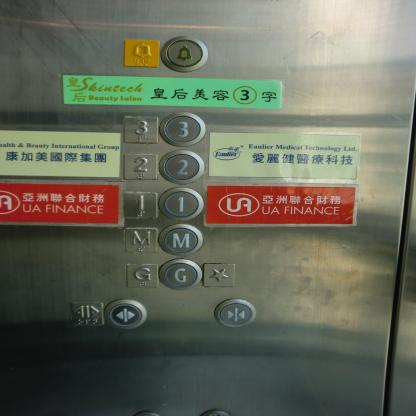1: (158, 186, 205, 222), (121, 191, 158, 220)
2: (158, 148, 206, 185), (121, 152, 159, 181)
3: (159, 110, 207, 148), (122, 115, 159, 144)
G: (157, 257, 202, 292), (124, 262, 159, 289)
M: (158, 222, 204, 257), (122, 226, 158, 254)
alarm: (160, 34, 209, 73), (122, 37, 160, 68)
close: (212, 297, 257, 329)
open: (105, 298, 147, 331), (70, 300, 104, 326)
s: (202, 262, 236, 288)
